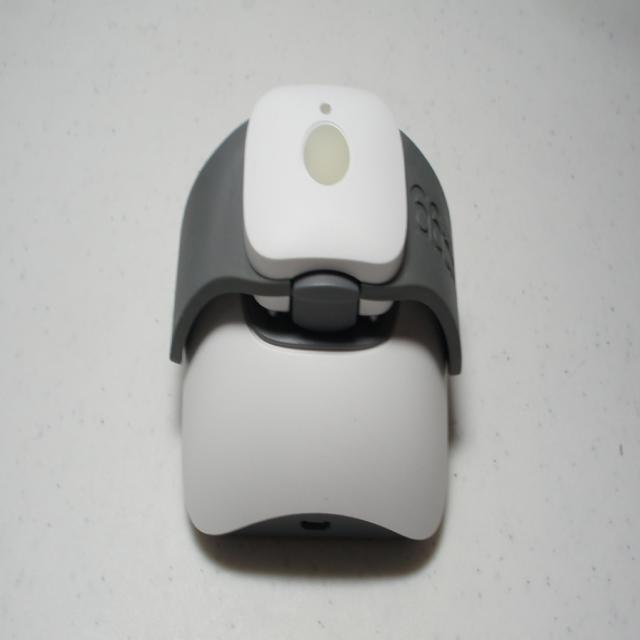Computer-mouse: (169, 78, 465, 547)
